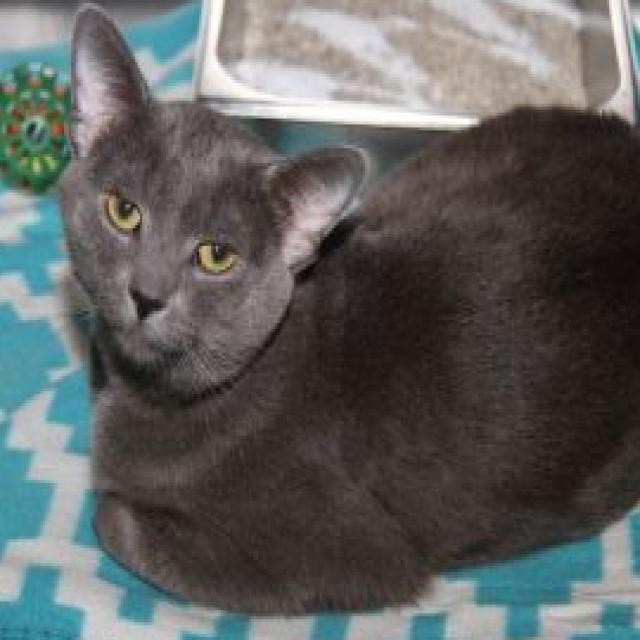Russian Blue: (54, 0, 640, 616)
